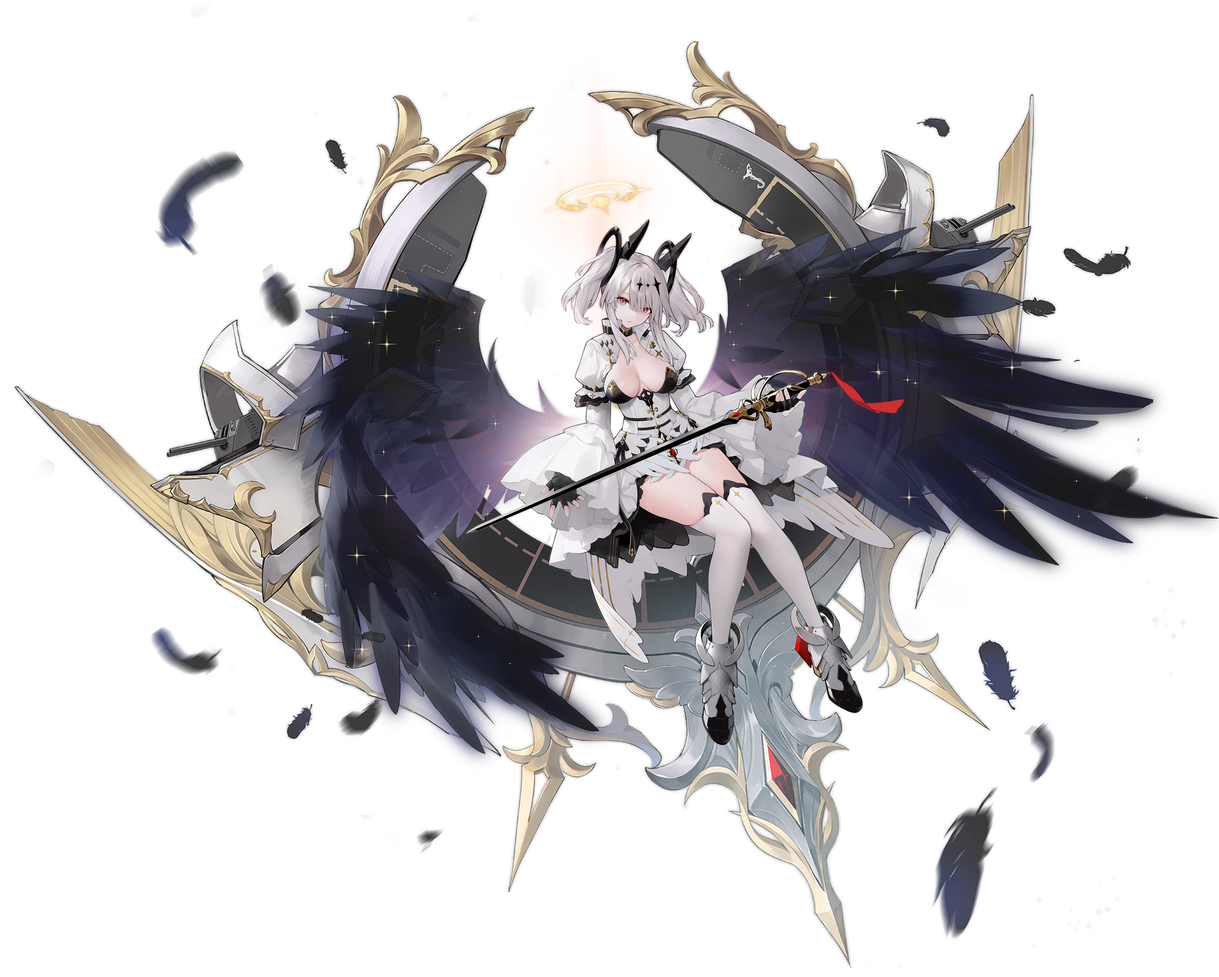person: (452, 199, 871, 781)
